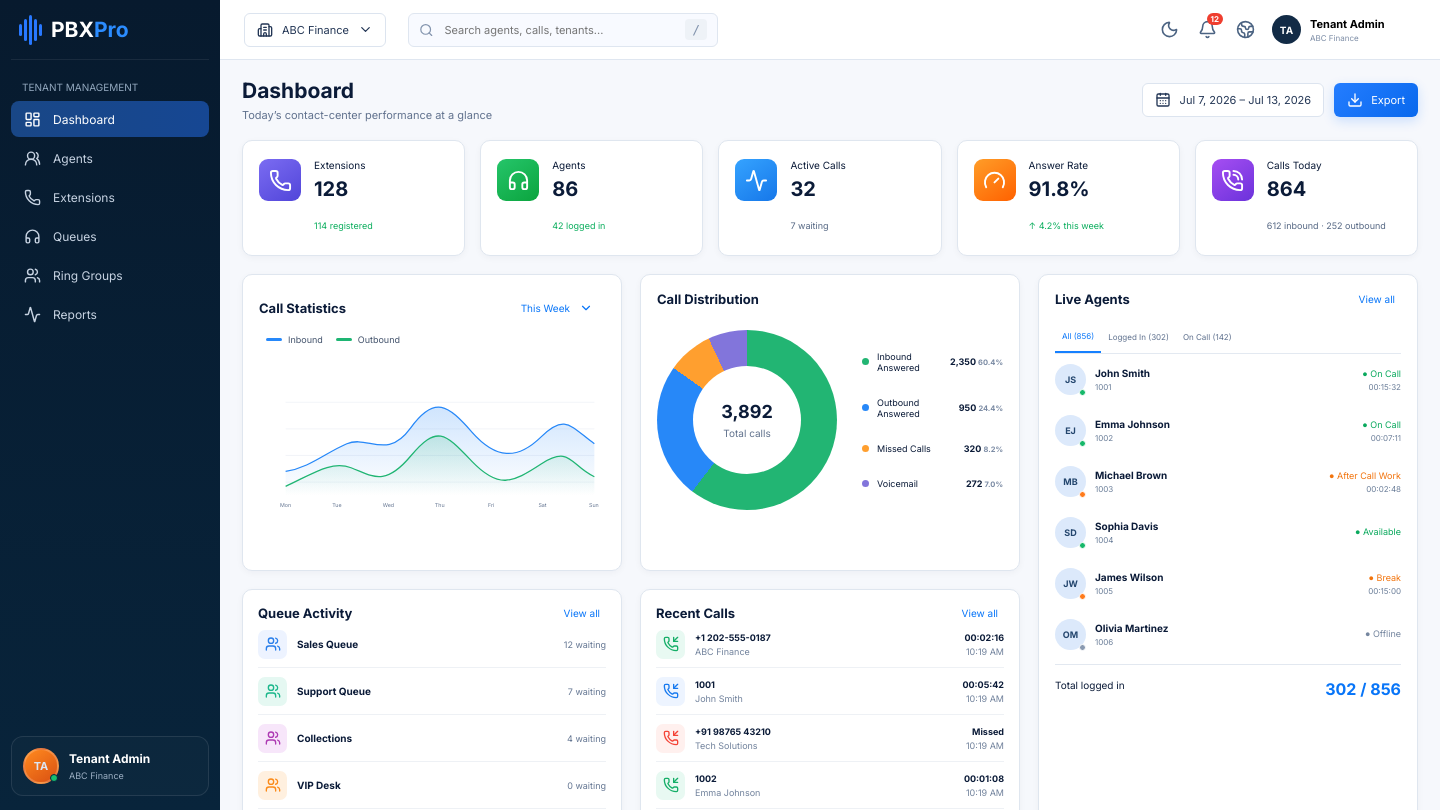
it: Tenant Admin provisioning › opens an existing extension for editing without exposing its password
Click the button "Extensions" at (110, 197), box [11,179,209,215]
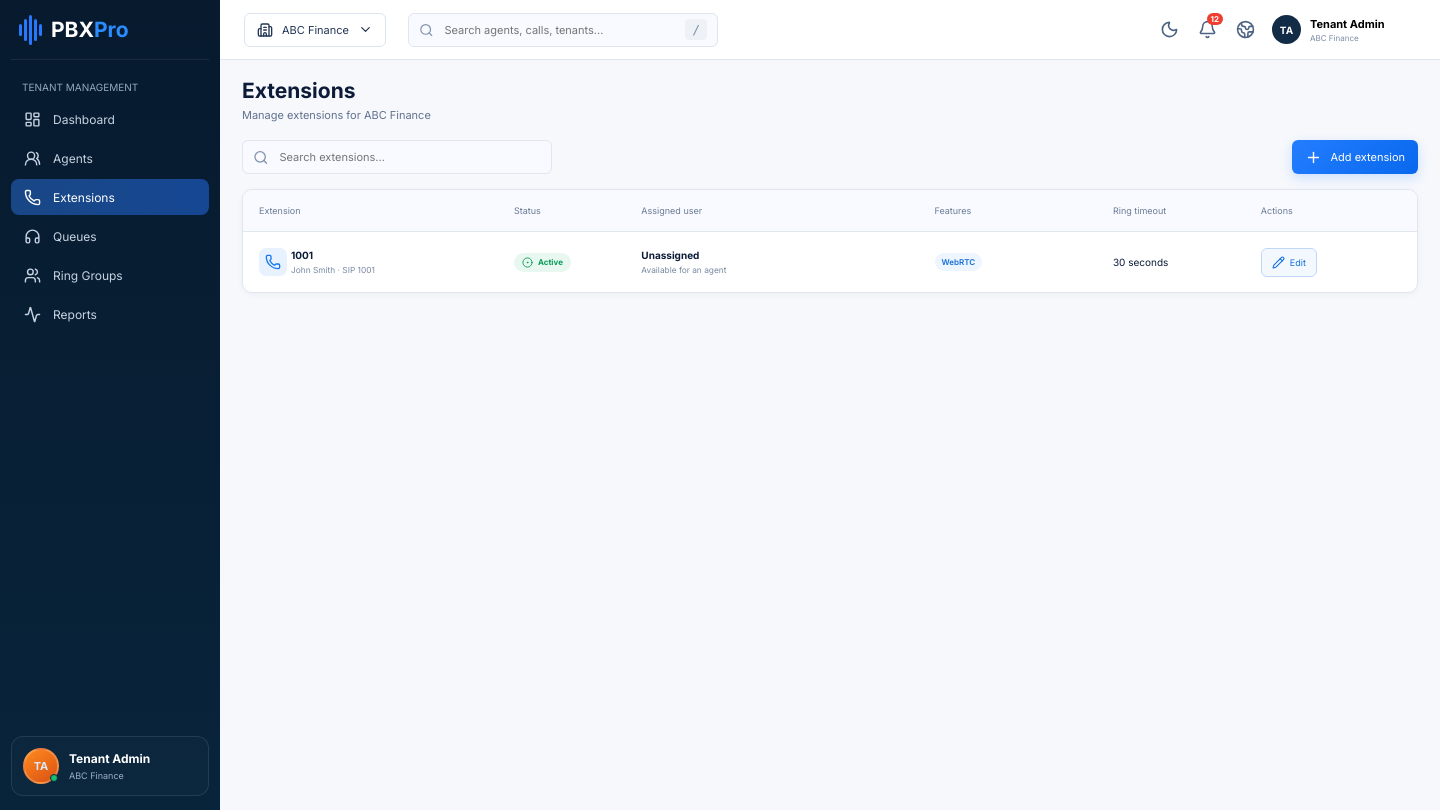
Click the button "Edit" at (1289, 262), box [1261,248,1317,276]
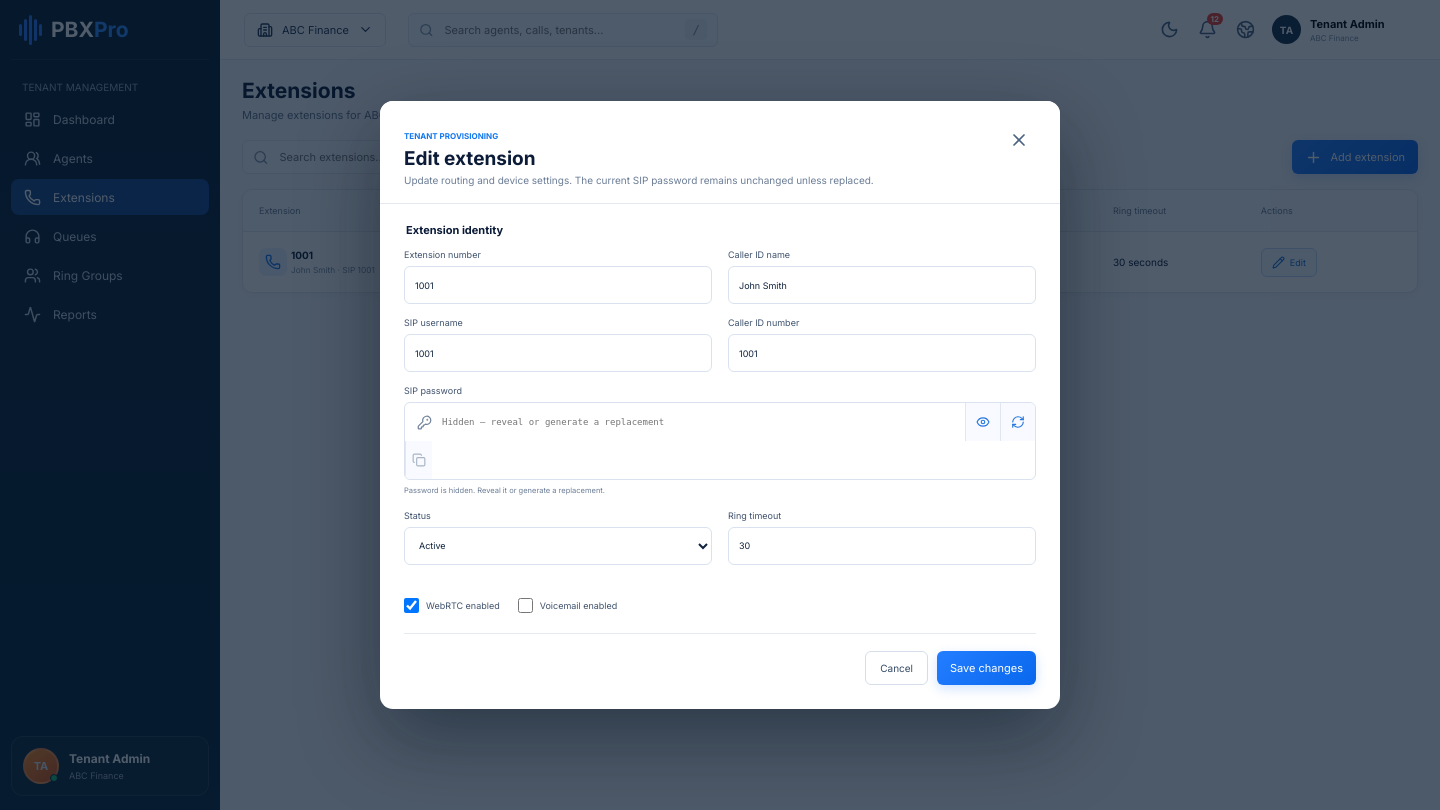
Expected: the heading "Edit extension" is shown, [404,147,536,170]
Expected: the password field labelled "SIP password" is empty, [432,403,965,441]
Expected: the text "Password is hidden. Reveal it or generate a replacement." is shown, [404,486,605,495]
